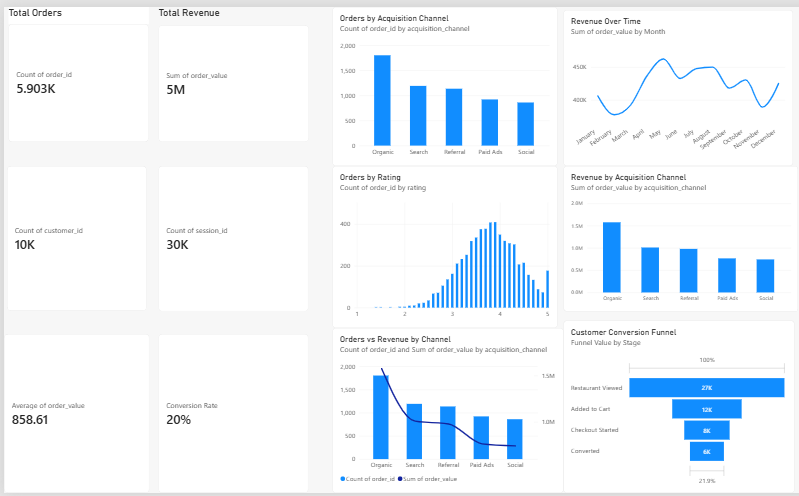

The page's visual inventory and layout, read from the dashboard file:
{"tool":"powerbi","page":{"name":"Customer & Order Performance","canvas":[1920,1080],"ordinal":0},"visuals":[{"type":"cardVisual","title":"Total Orders","fields":{"Data":["CountNonNull(orders.order_id)"]},"box":[11.3,0,311.8,300.5],"z":0},{"type":"cardVisual","title":"Total Revenue","fields":{"Data":["Sum(orders.order_value)"]},"box":[344,0,334.5,300.5],"z":1},{"type":"cardVisual","fields":{"Data":["Avg(orders.order_value)"]},"box":[0,726.7,323.3,353.3],"z":2},{"type":"cardVisual","fields":{"Data":["Count(customers.customer_id)"]},"box":[6.7,353.3,310.7,322.7],"z":3},{"type":"cardVisual","fields":{"Data":["CountNonNull(sessions.session_id)"]},"box":[343.3,353.3,333.3,323.3],"z":4},{"type":"cardVisual","fields":{"Data":["sessions.Conversion Rate"]},"box":[343.3,726.7,333.3,353.3],"z":6},{"type":"clusteredColumnChart","title":"Orders by Acquisition Channel","fields":{"Category":["customers.acquisition_channel"],"Y":["CountNonNull(orders.order_id)"]},"box":[730,0,500,353.3],"z":7},{"type":"clusteredColumnChart","title":"Revenue by Acquisition Channel","fields":{"Category":["customers.acquisition_channel"],"Y":["Sum(orders.order_value)"]},"box":[1243.3,353.3,523.3,323.3],"z":8},{"type":"lineClusteredColumnComboChart","title":"Orders vs Revenue by Channel","fields":{"Category":["customers.acquisition_channel"],"Y":["CountNonNull(orders.order_id)"],"Y2":["Sum(orders.order_value)"]},"box":[730,713.3,513.3,366.7],"z":9},{"type":"lineChart","title":"Revenue Over Time","fields":{"Category":["orders.order_date.Variation.Date Hierarchy.Month"],"Y":["Sum(orders.order_value)"]},"box":[1243.3,6.7,510,346.7],"z":13},{"type":"clusteredColumnChart","title":"Orders by Rating","fields":{"Category":["orders.rating"],"Y":["CountNonNull(orders.order_id)"]},"box":[730,353.3,500,360],"z":14},{"type":"funnel","title":"Customer Conversion Funnel","fields":{"Category":["Funnel Stages.Stage"],"Y":["sessions.Funnel Value"]},"box":[1243.3,696.7,513.3,383.3],"z":15}]}

Visuals, with their boxes on the page's 1920x1080 design canvas (x1, y1, x2, y2). These are canvas units, not pixel positions in the 799x496 screenshot, which may show the page scaled, cropped or inside an application window:
"Total Orders" cardVisual: BBox(11, 0, 323, 300)
"Total Revenue" cardVisual: BBox(344, 0, 678, 300)
cardVisual - Avg(orders.order_value): BBox(0, 727, 323, 1080)
cardVisual - Count(customers.customer_id): BBox(7, 353, 317, 676)
cardVisual - CountNonNull(sessions.session_id): BBox(343, 353, 677, 677)
cardVisual - sessions.Conversion Rate: BBox(343, 727, 677, 1080)
"Orders by Acquisition Channel" clusteredColumnChart: BBox(730, 0, 1230, 353)
"Revenue by Acquisition Channel" clusteredColumnChart: BBox(1243, 353, 1767, 677)
"Orders vs Revenue by Channel" lineClusteredColumnComboChart: BBox(730, 713, 1243, 1080)
"Revenue Over Time" lineChart: BBox(1243, 7, 1753, 353)
"Orders by Rating" clusteredColumnChart: BBox(730, 353, 1230, 713)
"Customer Conversion Funnel" funnel: BBox(1243, 697, 1757, 1080)
